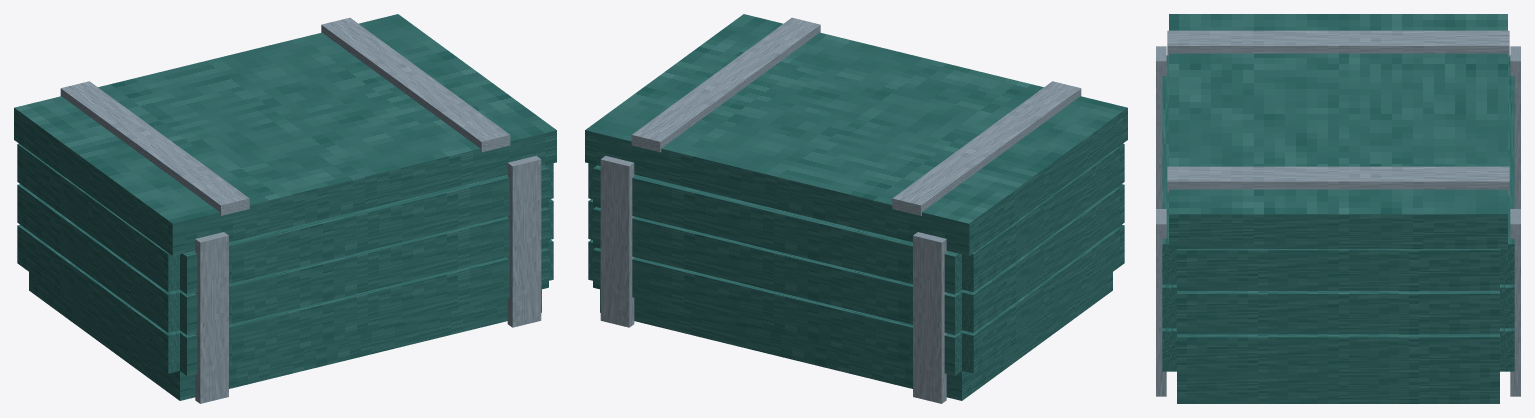
The model's file is metal-equipment-crate.glb.
3 views of the same model, side by side, from view 1: azimuth 30°, elevation 25°; view 2: azimuth 150°, elevation 25°; view 3: azimuth 270°, elevation 25° (orthographic). The views are drawn at different scales.
Visible parts, largest first — view 1: lid, side board (×3), end board (×3), lid strap (×2), corner strap (×2), bottom; view 2: lid, side board (×3), end board (×3), lid strap (×2), corner strap (×2), bottom; view 3: lid, end board (×3), lid strap (×2), bottom, side board (×6), corner strap (×4).
Part boxes in pixels (x1=…): lid: x1=14, y1=14, x2=556, y2=255; side board (×3): x1=177, y1=165, x2=548, y2=375; end board (×3): x1=17, y1=143, x2=182, y2=373; lid strap (×2): x1=60, y1=17, x2=510, y2=215; corner strap (×2): x1=195, y1=155, x2=541, y2=403; bottom: x1=29, y1=272, x2=541, y2=400; lid: x1=585, y1=14, x2=1127, y2=255; side board (×3): x1=593, y1=165, x2=964, y2=375; end board (×3): x1=959, y1=143, x2=1124, y2=373; lid strap (×2): x1=631, y1=17, x2=1081, y2=215; corner strap (×2): x1=600, y1=155, x2=946, y2=403; bottom: x1=600, y1=272, x2=1112, y2=400; lid: x1=1169, y1=14, x2=1507, y2=248; end board (×3): x1=1177, y1=249, x2=1499, y2=377; lid strap (×2): x1=1167, y1=30, x2=1509, y2=192; bottom: x1=1177, y1=378, x2=1499, y2=403; side board (×6): x1=1162, y1=55, x2=1514, y2=371; corner strap (×4): x1=1156, y1=46, x2=1520, y2=396.
Size of the model in its own units: 1.15 by 0.542 by 0.882.
2 materials, 2 textured.
